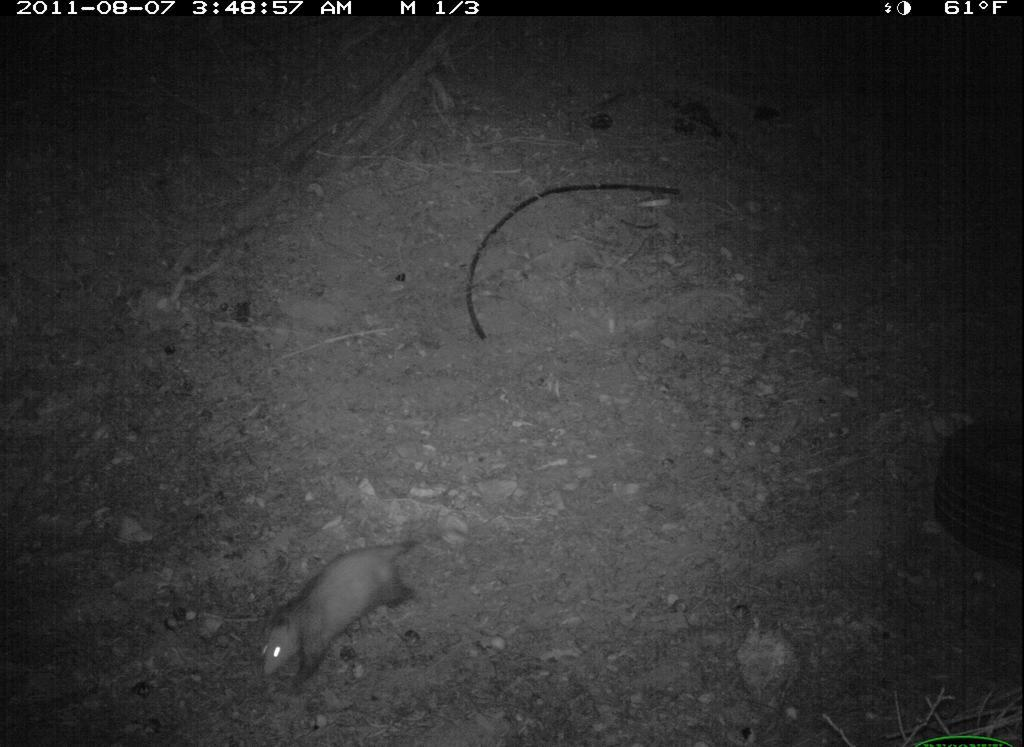opossum: (242, 528, 452, 701)
